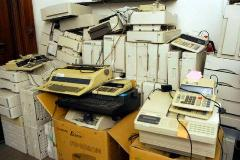electronic: (44, 54, 114, 110)
